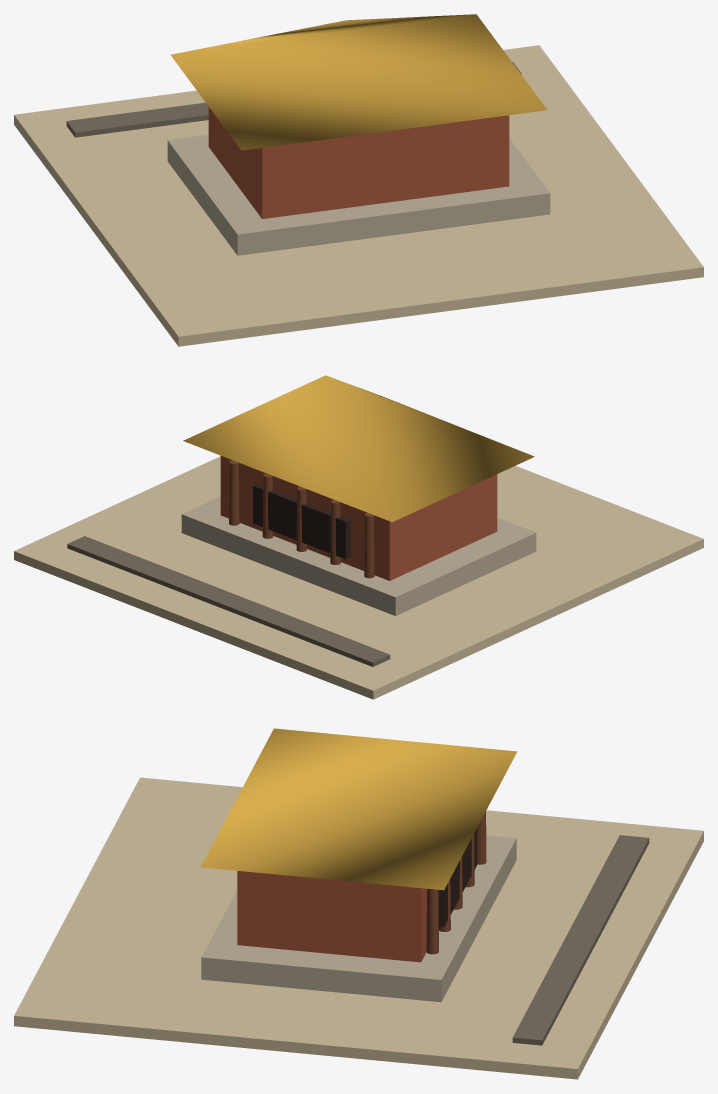
Rendered from model-medium.glb.
The picture shows the model from 3 angles, top to bottom: view 1: azimuth 30°, elevation 25°; view 2: azimuth 150°, elevation 25°; view 3: azimuth 270°, elevation 25°; orthographic projection. The views are drawn at different scales.
Parts seen in each view (by area): view 1: context_site_plinth, sweeping_tiled_roof, main_hall_wall_volume, raised_ceremonial_platform, front_scale_strip; view 2: context_site_plinth, sweeping_tiled_roof, raised_ceremonial_platform, main_hall_wall_volume, front_scale_strip, central_shadow_door, front_column_1, front_column_5; view 3: context_site_plinth, sweeping_tiled_roof, raised_ceremonial_platform, main_hall_wall_volume, front_scale_strip, central_shadow_door, front_column_5.
Boxes of the visible parts, bbox=[...] form: context_site_plinth: bbox=[14, 45, 703, 346]; sweeping_tiled_roof: bbox=[170, 14, 547, 150]; main_hall_wall_volume: bbox=[208, 107, 509, 218]; raised_ceremonial_platform: bbox=[167, 134, 550, 255]; front_scale_strip: bbox=[66, 62, 521, 137]; context_site_plinth: bbox=[14, 456, 703, 699]; sweeping_tiled_roof: bbox=[183, 375, 534, 522]; raised_ceremonial_platform: bbox=[181, 496, 536, 615]; main_hall_wall_volume: bbox=[220, 456, 497, 580]; front_scale_strip: bbox=[67, 536, 390, 666]; central_shadow_door: bbox=[253, 483, 350, 559]; front_column_1: bbox=[364, 512, 374, 578]; front_column_5: bbox=[229, 460, 239, 525]; context_site_plinth: bbox=[14, 777, 703, 1079]; sweeping_tiled_roof: bbox=[201, 728, 517, 890]; raised_ceremonial_platform: bbox=[201, 835, 516, 1002]; main_hall_wall_volume: bbox=[237, 871, 426, 962]; front_scale_strip: bbox=[512, 835, 649, 1045]; central_shadow_door: bbox=[438, 828, 476, 926]; front_column_5: bbox=[426, 888, 438, 954].
Size of the model in its own units: 9.55 by 2.62 by 9.55.
